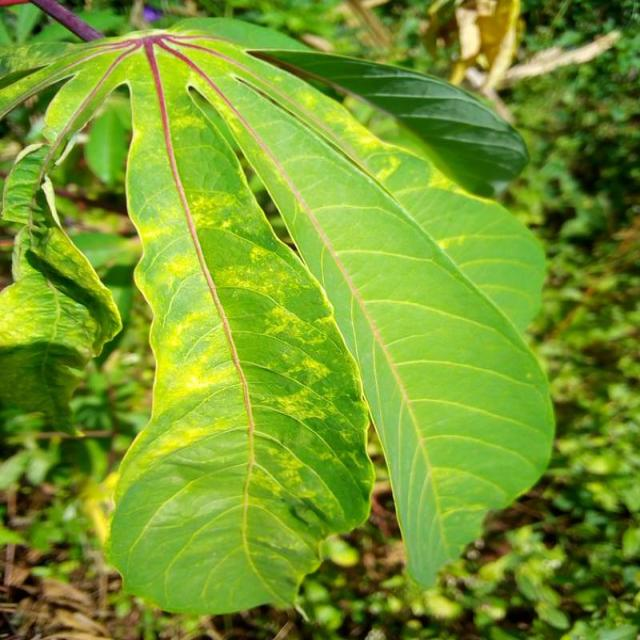cassava leaf: (2, 21, 556, 616)
